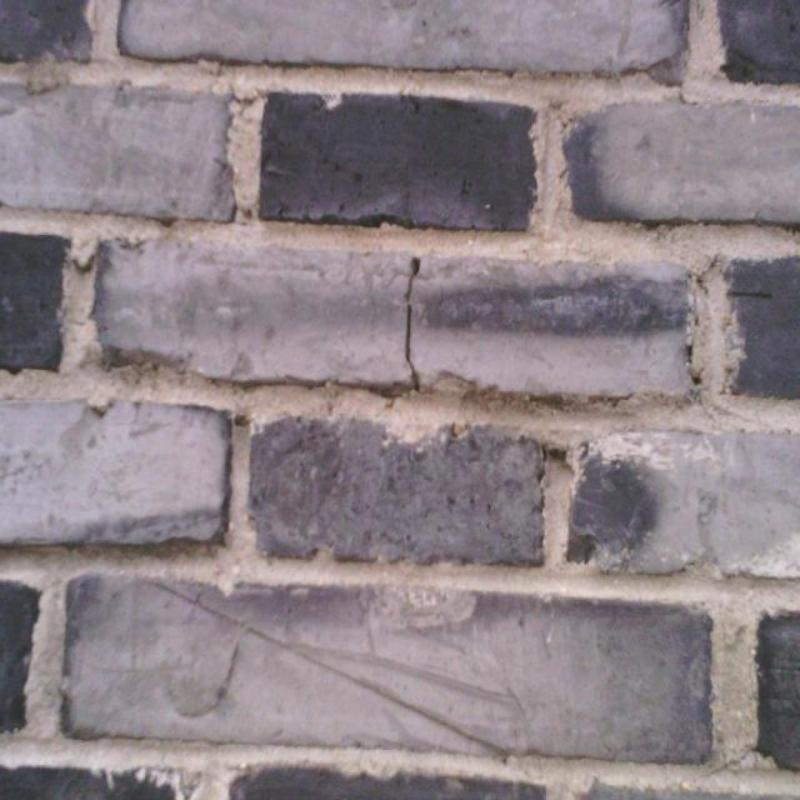crack: (405, 256, 420, 390)
